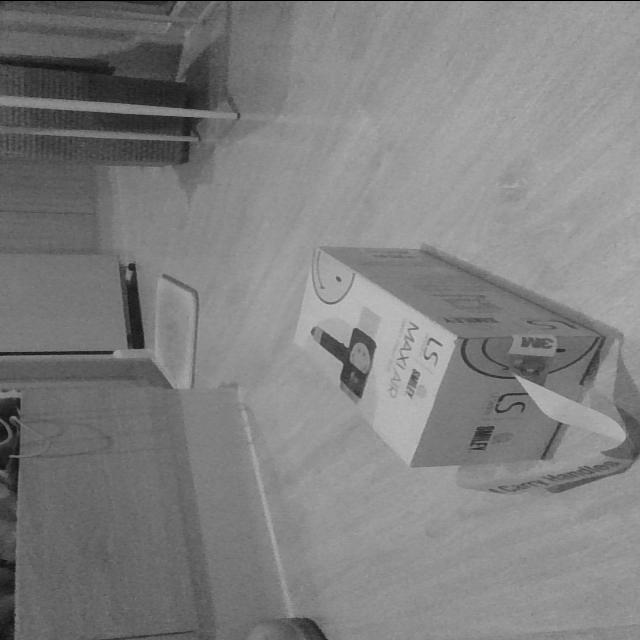Dryer: (290, 242, 610, 470)
